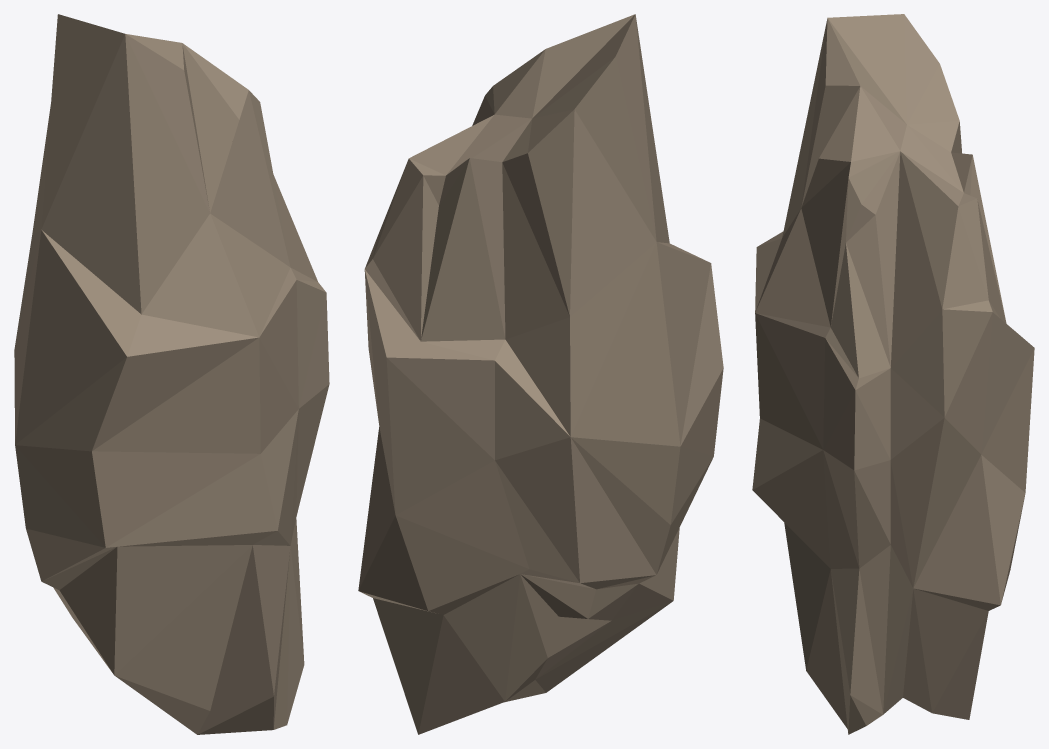
The model's file is SM_Env_Rock_013.fbx.
3 renders of one model, left to right at view 1: azimuth 30°, elevation 25°; view 2: azimuth 150°, elevation 25°; view 3: azimuth 270°, elevation 25°, orthographic. The views are drawn at different scales.
Visible parts, largest first — view 1: SM_Env_Rock_013; view 2: SM_Env_Rock_013; view 3: SM_Env_Rock_013.
Boxes of the visible parts, box(x1,y1,x2,y2) form: SM_Env_Rock_013: box(14, 14, 329, 734); SM_Env_Rock_013: box(358, 14, 723, 734); SM_Env_Rock_013: box(752, 14, 1034, 734).
Bounding box in the file's own units: 0.0181 × 0.0432 × 0.0171.
1 material, 1 textured.
